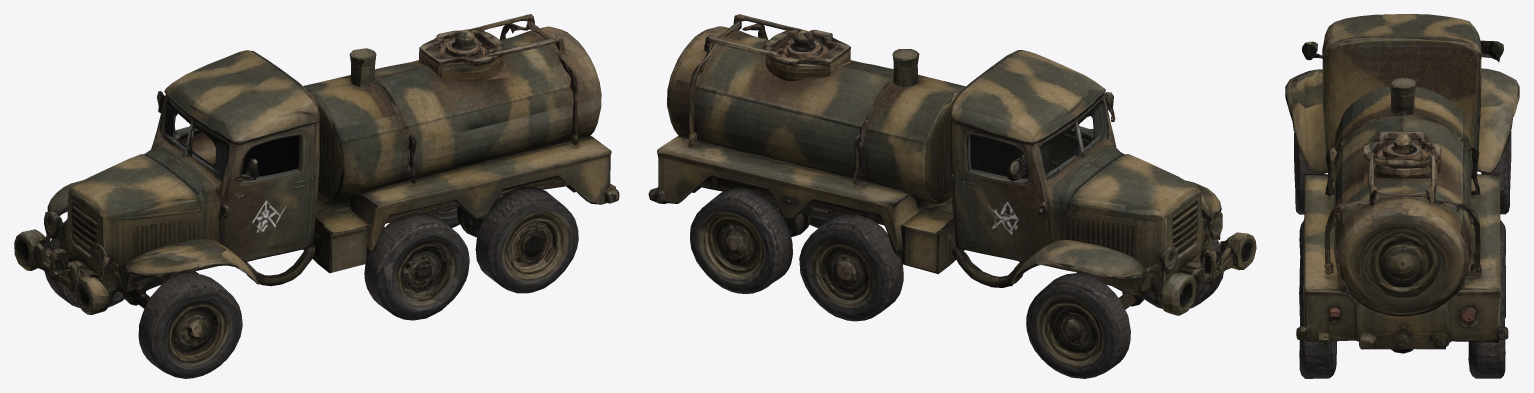
The model's file is french_fuel.glb.
3 renders of one model, left to right at view 1: azimuth 30°, elevation 25°; view 2: azimuth 150°, elevation 25°; view 3: azimuth 270°, elevation 25°, orthographic.
Parts seen in each view (by area): view 1: world; view 2: world; view 3: world.
Boxes of the visible parts, x1,y1,x2,y2 form: world: (14,14,619,378); world: (648,14,1256,378); world: (1285,14,1519,378).
Bounding box in the file's own units: 1 × 0.4331 × 0.386.
Materials: 1 (1 with a texture image).
